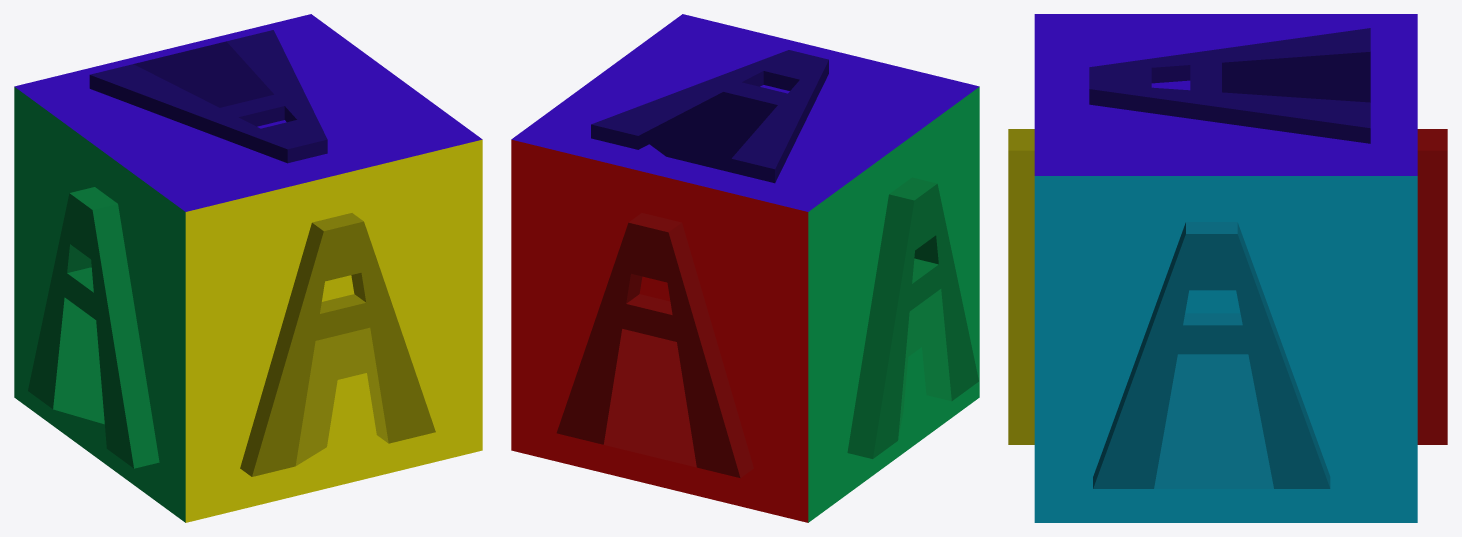
3 renders of one model, left to right at view 1: azimuth 30°, elevation 25°; view 2: azimuth 150°, elevation 25°; view 3: azimuth 270°, elevation 25°, orthographic. The views are drawn at different scales.
Parts seen in each view (by area): view 1: polySurface3; view 2: polySurface3; view 3: polySurface3.
Part boxes in pixels (left/top/right/bottom): polySurface3: left=14, top=14, right=482, bottom=522; polySurface3: left=511, top=14, right=979, bottom=522; polySurface3: left=1008, top=14, right=1447, bottom=522.
Size of the model in its own units: 1.16 by 1.11 by 1.15.
